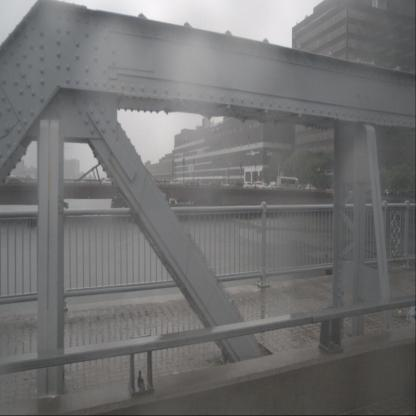vehicle-bus-rigid: (277, 176, 301, 192)
vehicle-car: (7, 176, 24, 185), (243, 182, 255, 191), (101, 178, 114, 186), (253, 182, 264, 191), (210, 181, 222, 189), (305, 184, 316, 192), (260, 184, 271, 191), (170, 179, 180, 186)
